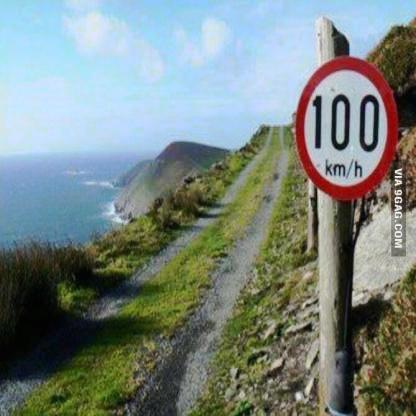Speed Limit -100-: (296, 54, 400, 197)
